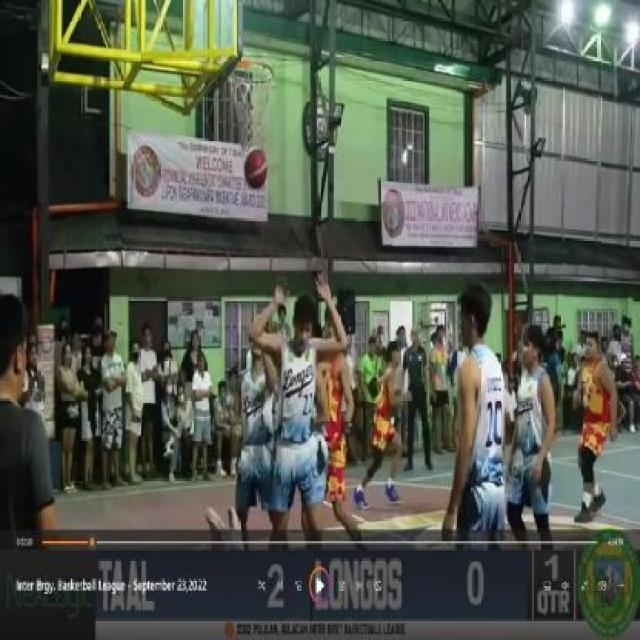Ball: (245, 149, 269, 191)
